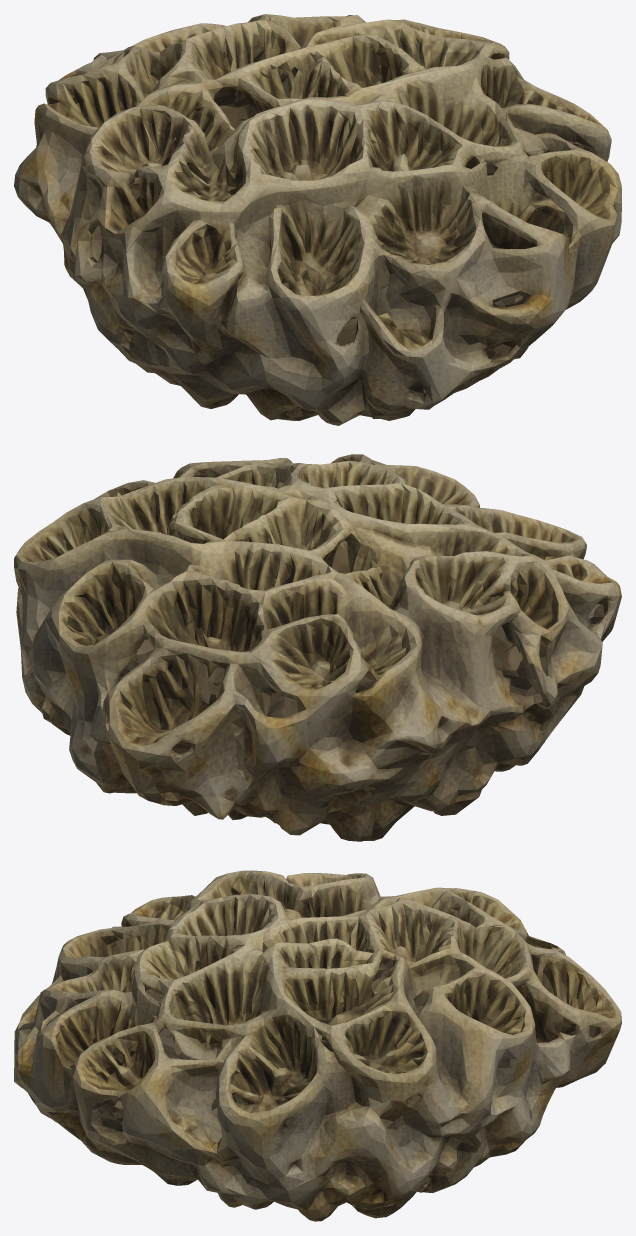
3 views of the same model, one above another, from view 1: azimuth 30°, elevation 25°; view 2: azimuth 150°, elevation 25°; view 3: azimuth 270°, elevation 25° (orthographic). The views are drawn at different scales.
Parts seen in each view (by area): view 1: world; view 2: world; view 3: world.
Part boxes in pixels (bbox=[...]): world: bbox=[14, 14, 621, 425]; world: bbox=[14, 454, 621, 841]; world: bbox=[14, 870, 621, 1221].
Size of the model in its own units: 0.8579 by 0.453 by 1.
1 material, 1 textured.
